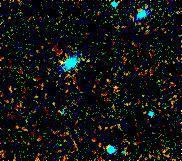star: (45, 49, 75, 79)
